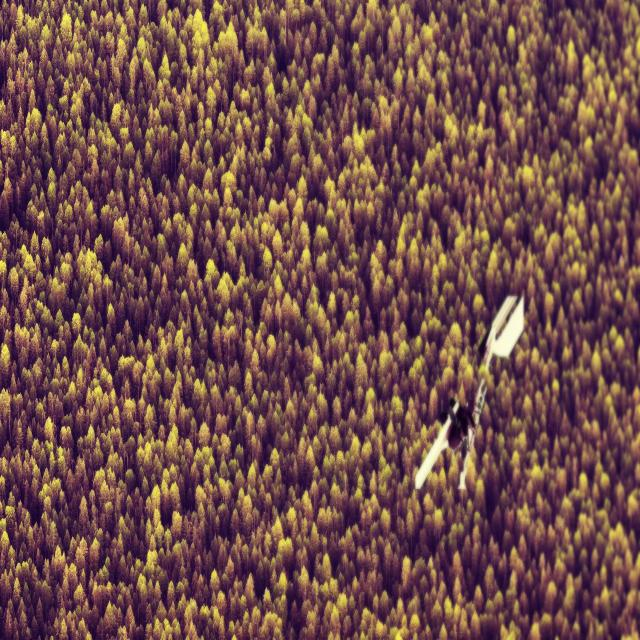airplane: (414, 292, 524, 491)
